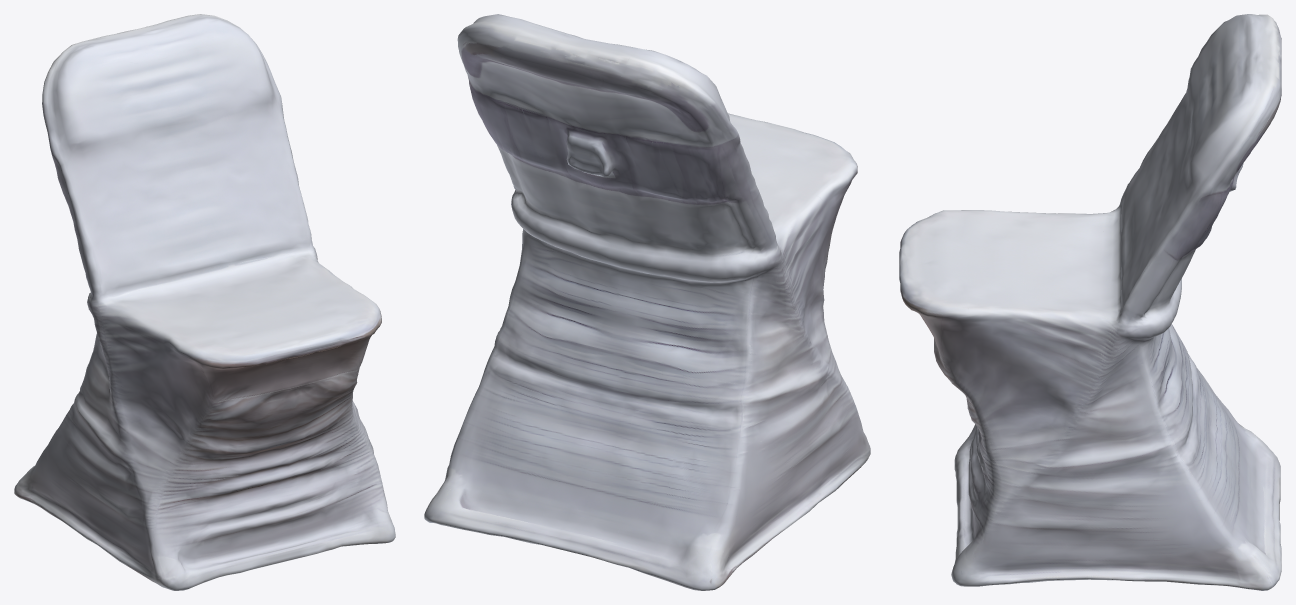
Rendered from White_Stretch_Chair_Cover_0406025027_texture.glb.
3 renders of one model, left to right at view 1: azimuth 30°, elevation 25°; view 2: azimuth 150°, elevation 25°; view 3: azimuth 270°, elevation 25°, orthographic. The views are drawn at different scales.
Visible parts, largest first — view 1: Mesh_0.001; view 2: Mesh_0.001; view 3: Mesh_0.001.
Boxes of the visible parts, bbox=[...] form: Mesh_0.001: bbox=[14, 14, 395, 590]; Mesh_0.001: bbox=[424, 14, 870, 590]; Mesh_0.001: bbox=[899, 14, 1281, 590].
Size of the model in its own units: 0.4934 by 0.8128 by 0.5904.
Materials: 1 (1 with a texture image).
